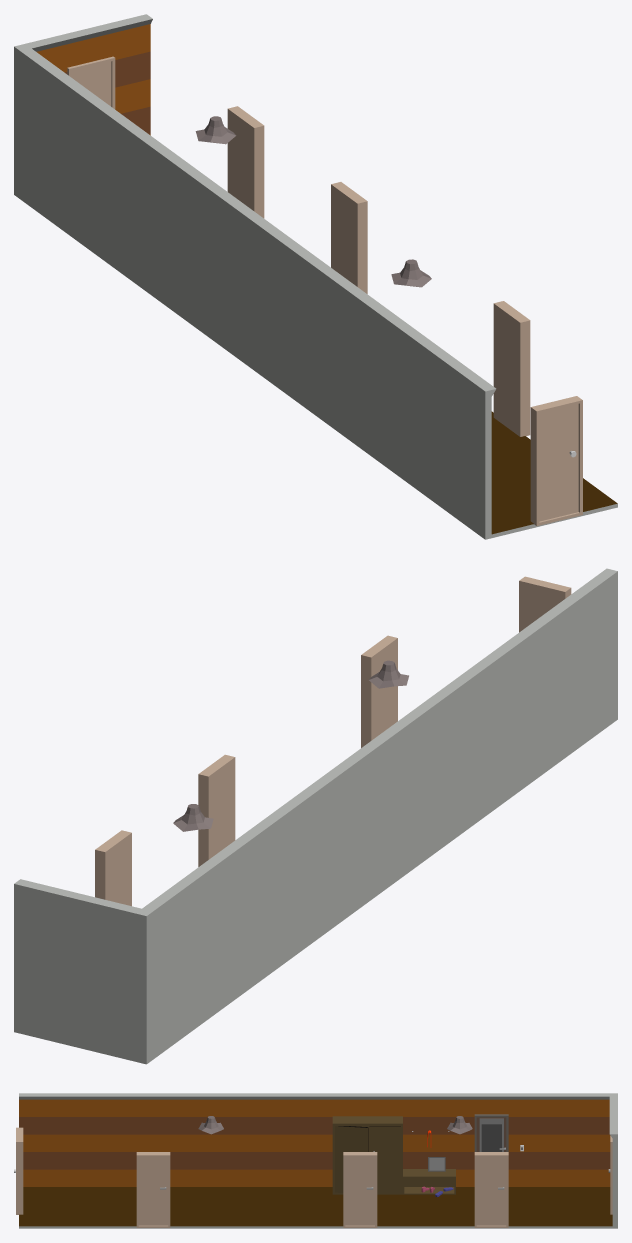
File: Komnata_Koridor_Doma_gg.fbx
The picture shows the model from 3 angles, top to bottom: view 1: azimuth 30°, elevation 25°; view 2: azimuth 150°, elevation 25°; view 3: azimuth 270°, elevation 25°; orthographic projection. The views are drawn at different scales.
Visible parts, largest first — view 1: Куб.040, Cube.006, Cube.002, Cube.003, Cube.001, Cube.004; view 2: Куб.040, Cube.001, Cube.002, Cube.003, Cube.006, Куб.004, Куб.003; view 3: Куб.040, Cube.001, Cube.002, Cube.003, Куб.052, Куб.047, Куб.053, Куб.046, Cube.007, Cube.006, Cube.005, Куб.003 (+3 smaller).
Part boxes in pixels (<box>): Куб.040: <box>14,14,617,539</box>; Cube.006: <box>530,396,582,525</box>; Cube.002: <box>493,301,530,436</box>; Cube.003: <box>227,106,264,218</box>; Cube.001: <box>331,182,367,293</box>; Cube.004: <box>67,56,115,109</box>; Куб.040: <box>14,568,617,1064</box>; Cube.001: <box>198,754,235,866</box>; Cube.002: <box>361,635,397,747</box>; Cube.003: <box>95,830,131,906</box>; Cube.006: <box>519,576,571,632</box>; Куб.004: <box>369,660,408,688</box>; Куб.003: <box>173,804,213,831</box>; Куб.040: <box>19,1093,617,1228</box>; Cube.001: <box>343,1152,377,1227</box>; Cube.002: <box>136,1152,170,1227</box>; Cube.003: <box>474,1152,508,1227</box>; Куб.052: <box>369,1126,400,1192</box>; Куб.047: <box>403,1169,455,1194</box>; Куб.053: <box>335,1126,368,1192</box>; Куб.046: <box>332,1116,402,1194</box>; Cube.007: <box>479,1118,503,1151</box>; Cube.006: <box>16,1127,23,1214</box>; Cube.005: <box>474,1114,508,1151</box>; Куб.003: <box>447,1116,472,1134</box>.
Size of the model in its own units: 646 by 656 by 3810.
